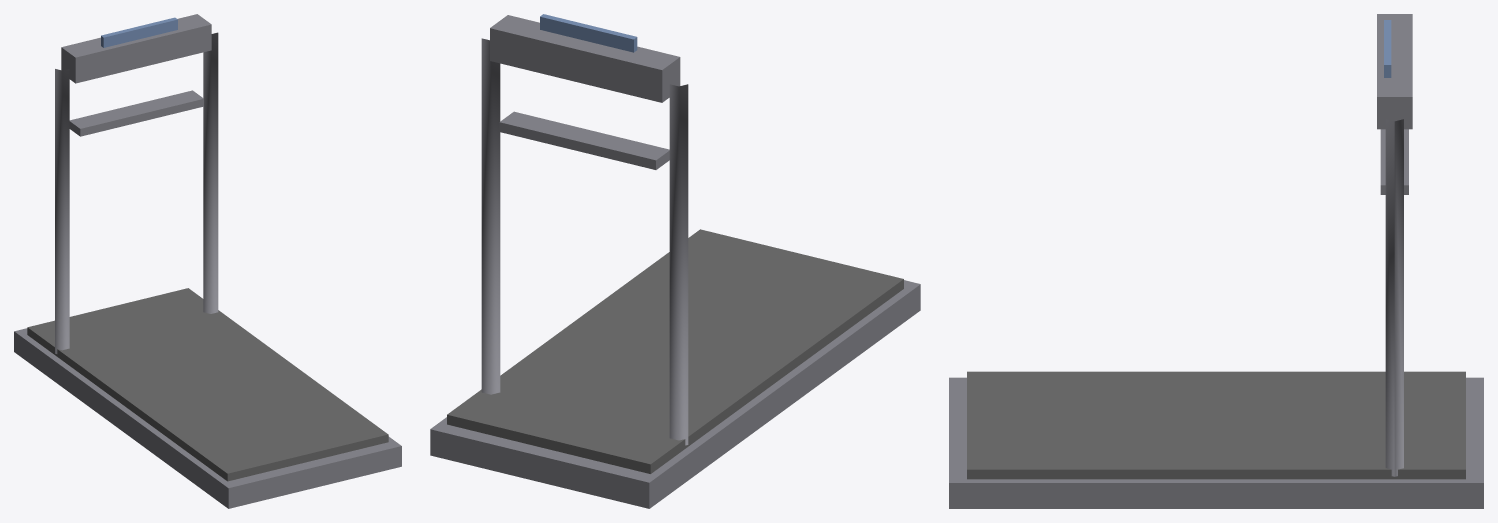
File: treadmill.glb
The picture shows the model from 3 angles, left to right: view 1: azimuth 30°, elevation 25°; view 2: azimuth 150°, elevation 25°; view 3: azimuth 270°, elevation 25°; orthographic projection. The views are drawn at different scales.
Visible parts, largest first — view 1: belt, deck, uprights, console, handlebar, display; view 2: belt, deck, uprights, console, handlebar, display; view 3: belt, deck, uprights, console, handlebar.
Boxes of the visible parts, bbox=[...] form: belt: bbox=[27, 288, 388, 481]; deck: bbox=[14, 328, 401, 508]; uprights: bbox=[55, 32, 218, 353]; console: bbox=[61, 14, 211, 83]; handlebar: bbox=[69, 90, 203, 136]; display: bbox=[101, 17, 177, 47]; belt: bbox=[447, 229, 903, 473]; deck: bbox=[430, 280, 920, 508]; uprights: bbox=[481, 38, 688, 445]; console: bbox=[490, 15, 680, 102]; handlebar: bbox=[499, 111, 669, 169]; display: bbox=[540, 14, 637, 52]; belt: bbox=[967, 371, 1465, 479]; deck: bbox=[949, 377, 1483, 508]; uprights: bbox=[1385, 119, 1403, 476]; console: bbox=[1377, 14, 1412, 129]; handlebar: bbox=[1380, 129, 1408, 194].
Size of the model in its own units: 0.7 by 1.28 by 1.5.
